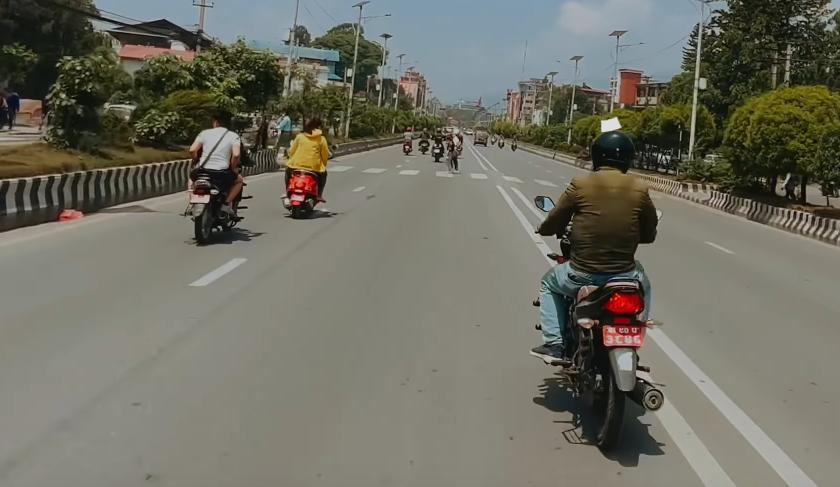bike: (529, 187, 667, 452), (182, 141, 258, 254)
